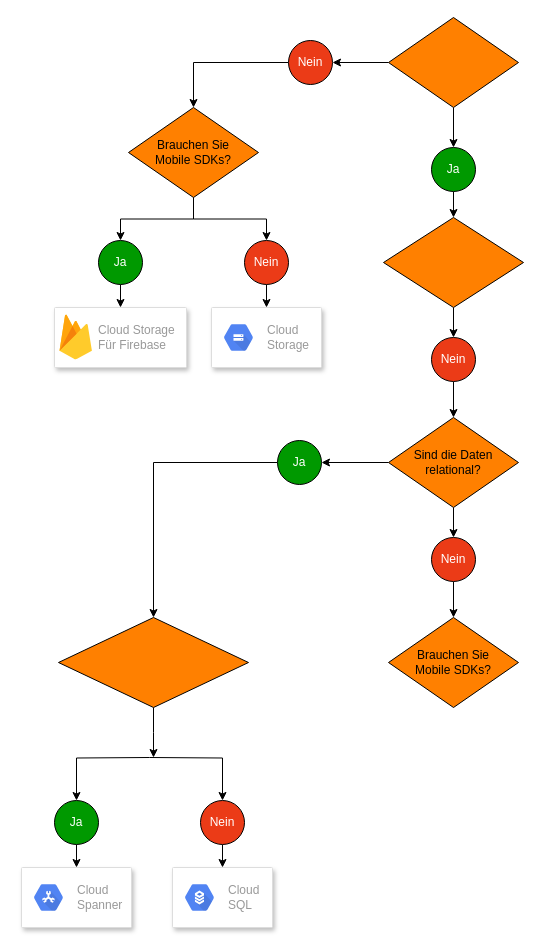
Image size: 541x952. Some labels were removed from this diagram. Each missing label, with the centre of its shape:
"Art der Anwendung? Analytik" belongs at pixel 453 262.
"Brauchen Sie Horizontal Skalierbarkeit?" belongs at pixel 153 662.
"Sind die Daten strukturiert?" belongs at pixel 453 62.
